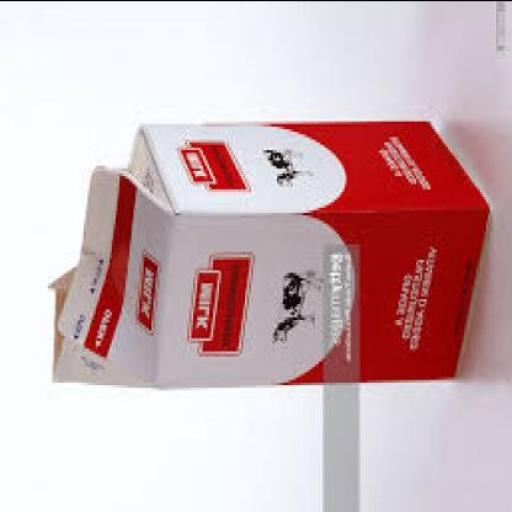cardboard: (44, 120, 490, 378)
